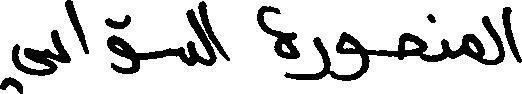X: (257, 1, 299, 84), (0, 26, 52, 93), (107, 10, 138, 78), (201, 0, 228, 70), (337, 27, 369, 85), (168, 4, 193, 70), (301, 32, 330, 84), (67, 0, 87, 67), (504, 2, 521, 67), (464, 12, 483, 68), (485, 9, 502, 69), (401, 28, 426, 65), (54, 0, 65, 76), (195, 0, 199, 68), (441, 34, 448, 65)
